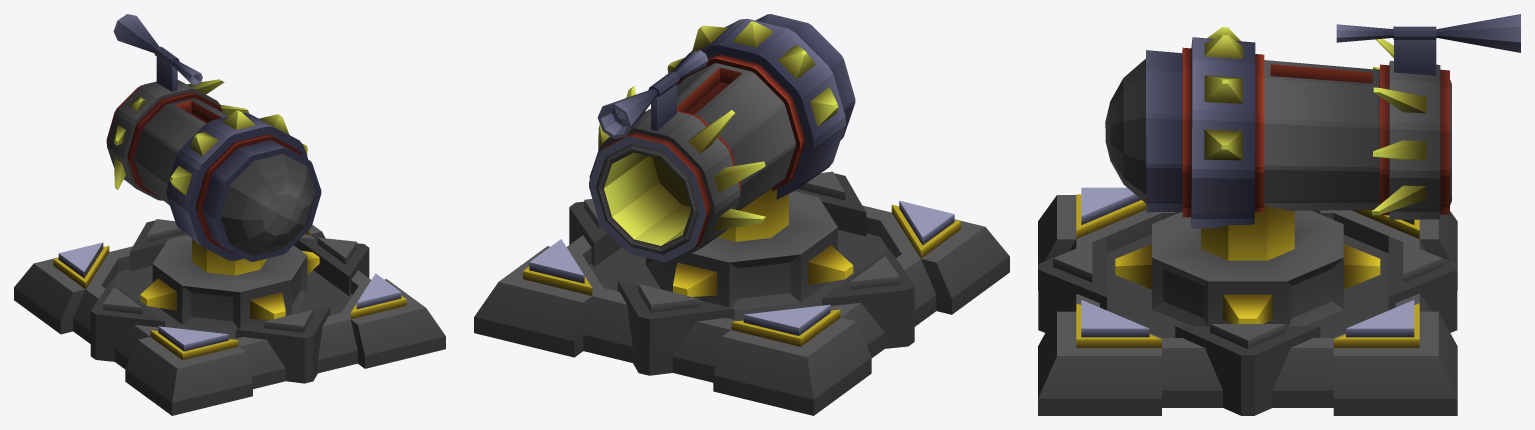
The model's file is ShootBoy2ndGun.fbx.
3 views of the same model, side by side, from view 1: azimuth 30°, elevation 25°; view 2: azimuth 150°, elevation 25°; view 3: azimuth 270°, elevation 25° (orthographic). The views are drawn at different scales.
Parts seen in each view (by area): view 1: GunTurning, GunBase; view 2: GunTurning, GunBase; view 3: GunTurning, GunBase.
Boxes of the visible parts, x1=… form: GunTurning: x1=106, y1=14, x2=321, y2=330; GunBase: x1=14, y1=219, x2=445, y2=415; GunTurning: x1=589, y1=14, x2=855, y2=310; GunBase: x1=474, y1=171, x2=1009, y2=415; GunTurning: x1=1105, y1=14, x2=1520, y2=326; GunBase: x1=1038, y1=187, x2=1457, y2=415.
Bounding box in the file's own units: 100 × 82.2 × 115.
